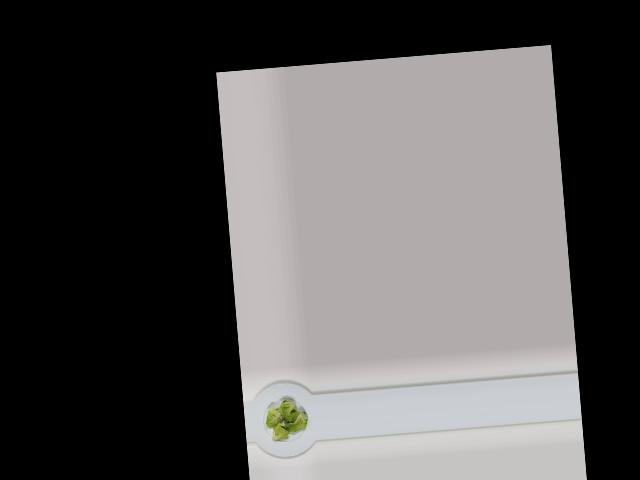lettuce: (265, 396, 313, 442)
